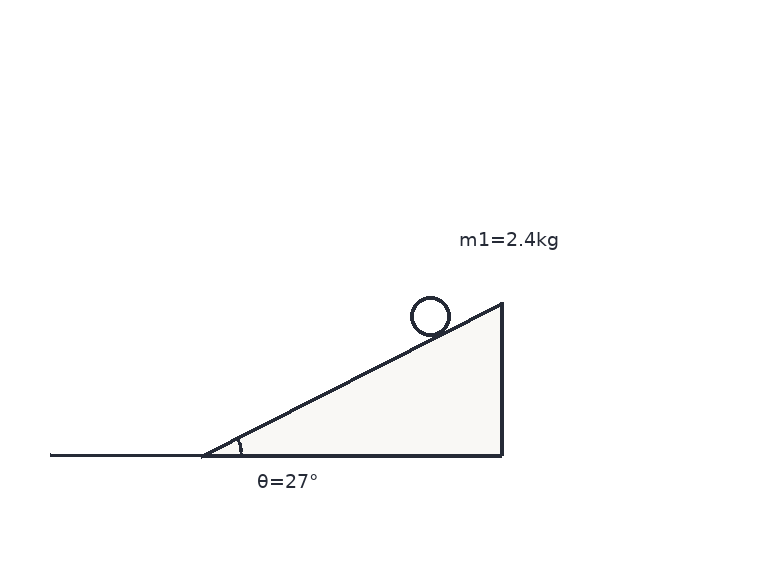ball: (408, 294, 452, 338)
ramp: (199, 300, 502, 457)
